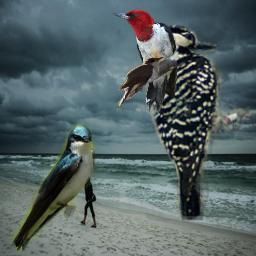Cuckoo: (117, 56, 164, 113)
Swallow: (9, 123, 97, 256)
Woodpecker: (146, 21, 250, 222), (112, 9, 177, 113)
